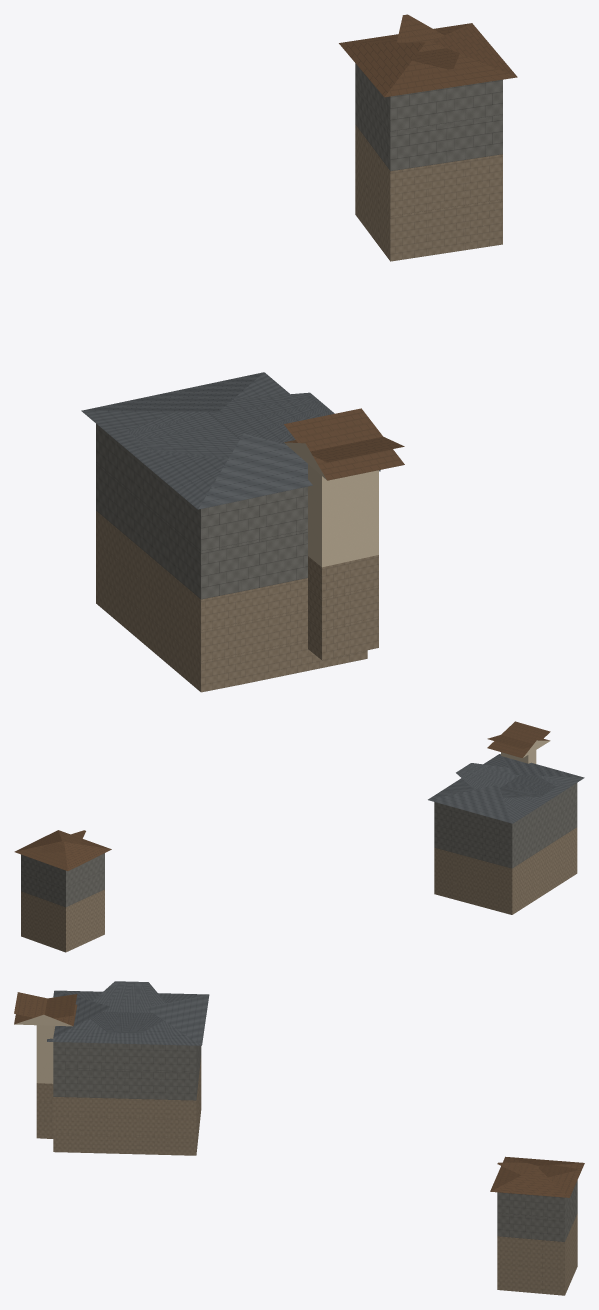
Rendered from bld_c40_-48_458.gltf.
3 renders of one model, top to bottom at view 1: azimuth 30°, elevation 25°; view 2: azimuth 150°, elevation 25°; view 3: azimuth 270°, elevation 25°, orthographic. The views are drawn at different scales.
Visible parts, largest first — view 1: bld_c40_-48_458; view 2: bld_c40_-48_458; view 3: bld_c40_-48_458.
Boxes of the visible parts, x1=… form: bld_c40_-48_458: x1=81, y1=14, x2=517, y2=692; bld_c40_-48_458: x1=14, y1=721, x2=584, y2=952; bld_c40_-48_458: x1=14, y1=981, x2=584, y2=1295.
Size of the model in its own units: 40.65 by 12.9 by 47.78.
Materials: 6 (6 with a texture image).
